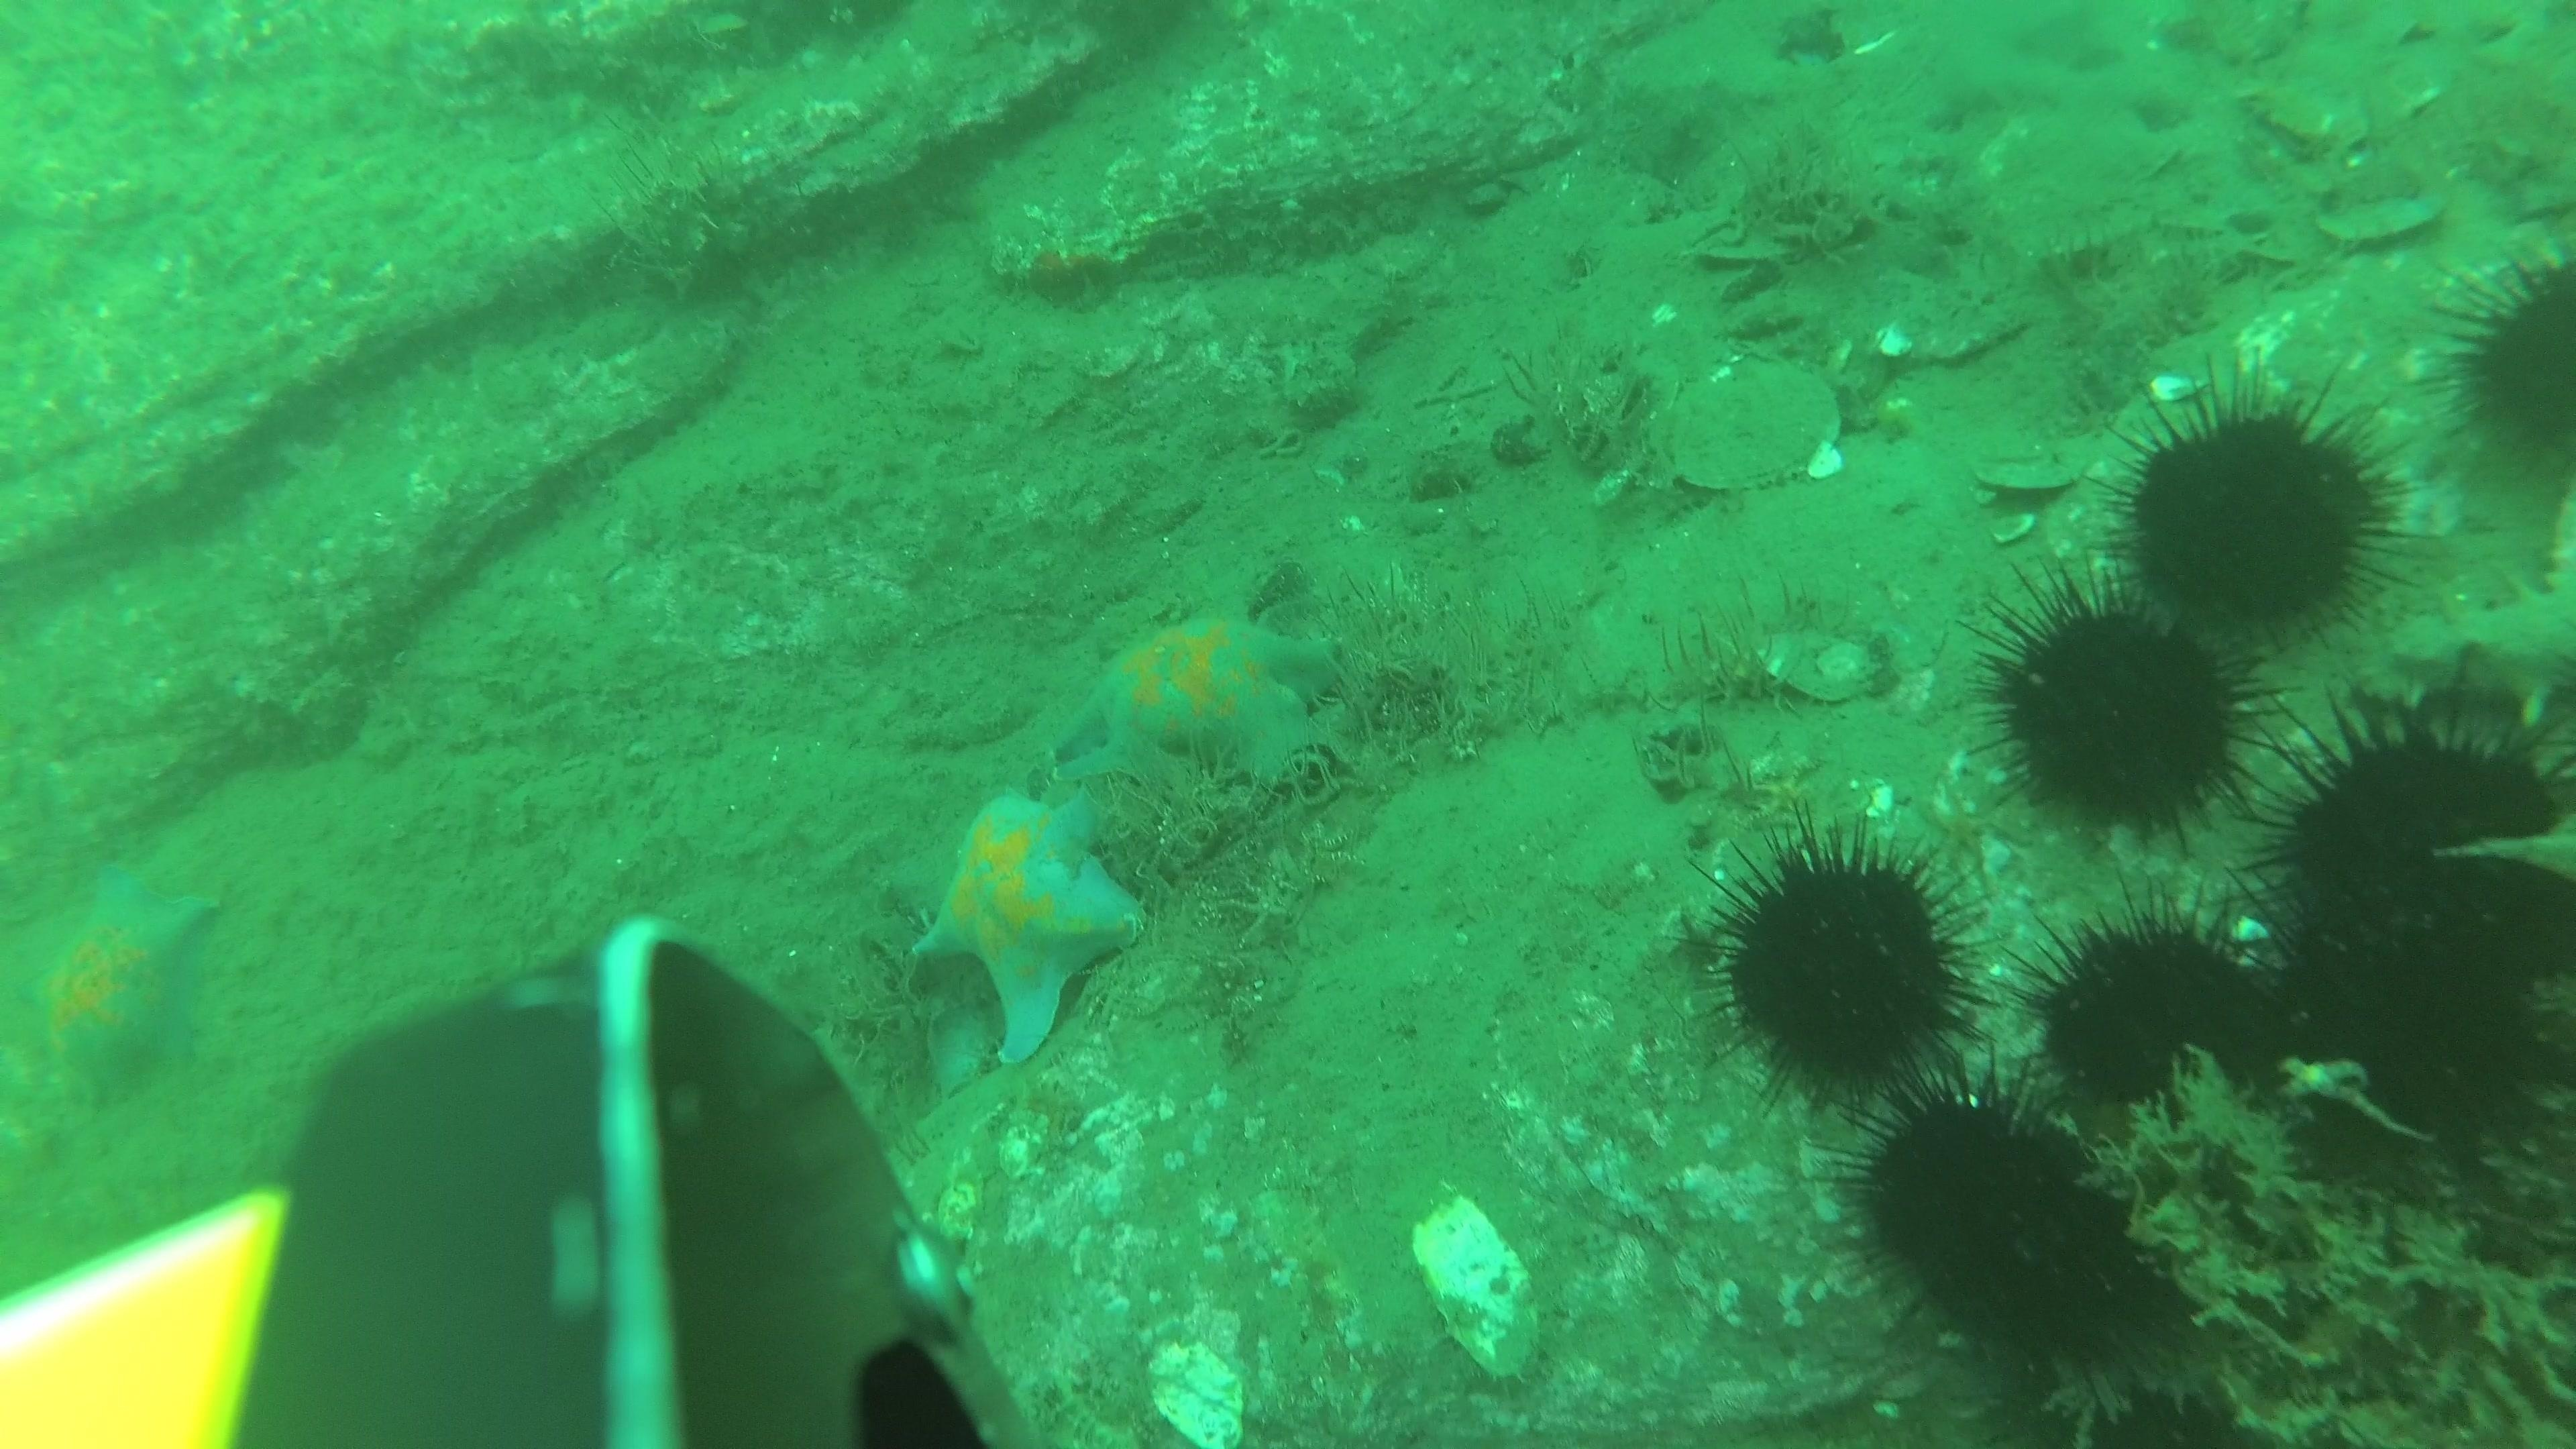echinus: (1826, 1054, 2187, 1391), (2245, 674, 2574, 996), (2100, 368, 2413, 655), (1967, 563, 2277, 849), (1695, 816, 1987, 1108), (2017, 888, 2288, 1123), (2427, 241, 2574, 497), (1967, 1338, 2265, 1438)
holothurian: (2367, 510, 2576, 732)
scallop: (1971, 108, 2173, 248), (1658, 354, 1844, 499), (2316, 159, 2445, 249), (1971, 439, 2075, 499)
starfish: (911, 789, 1146, 1065), (1053, 609, 1346, 800), (19, 860, 221, 1108)
